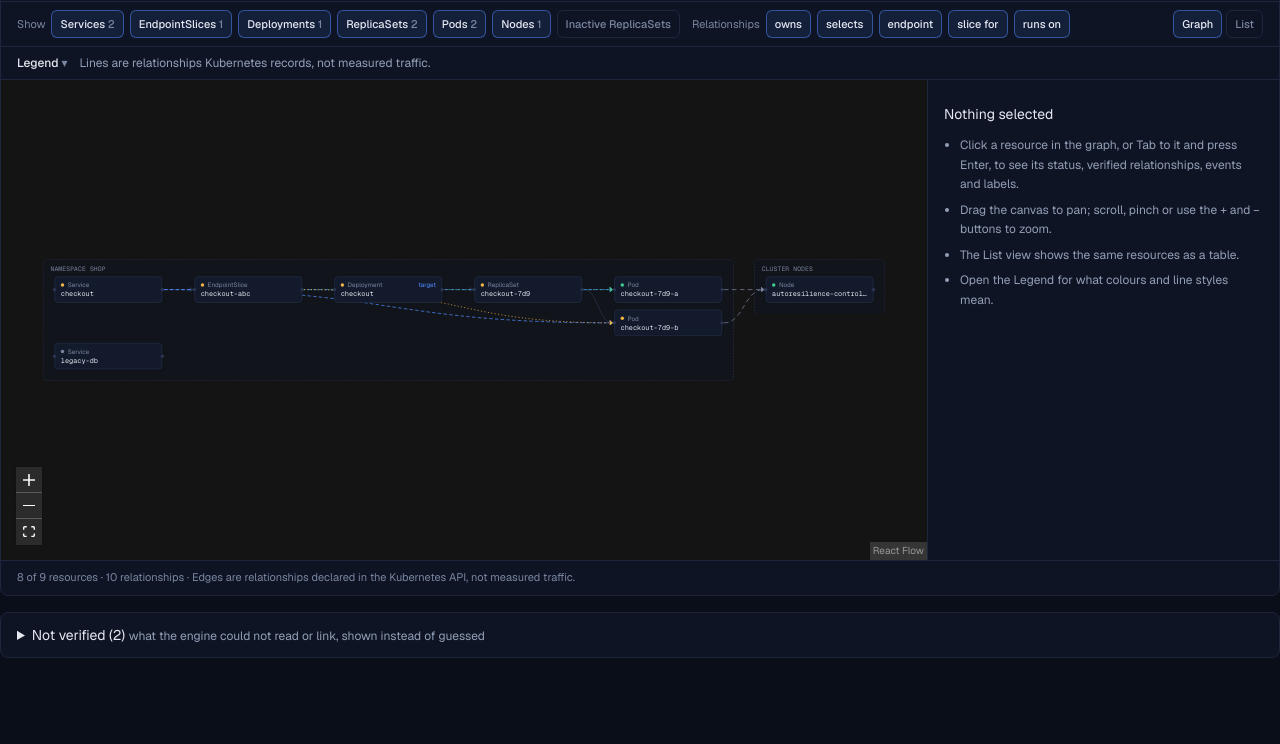
Scenario: TopologyView › offers an equivalent list view and shows unknowns instead of guessing
Step 1. Click the button "List" → x=1245, y=24, box [1226,10,1263,38]
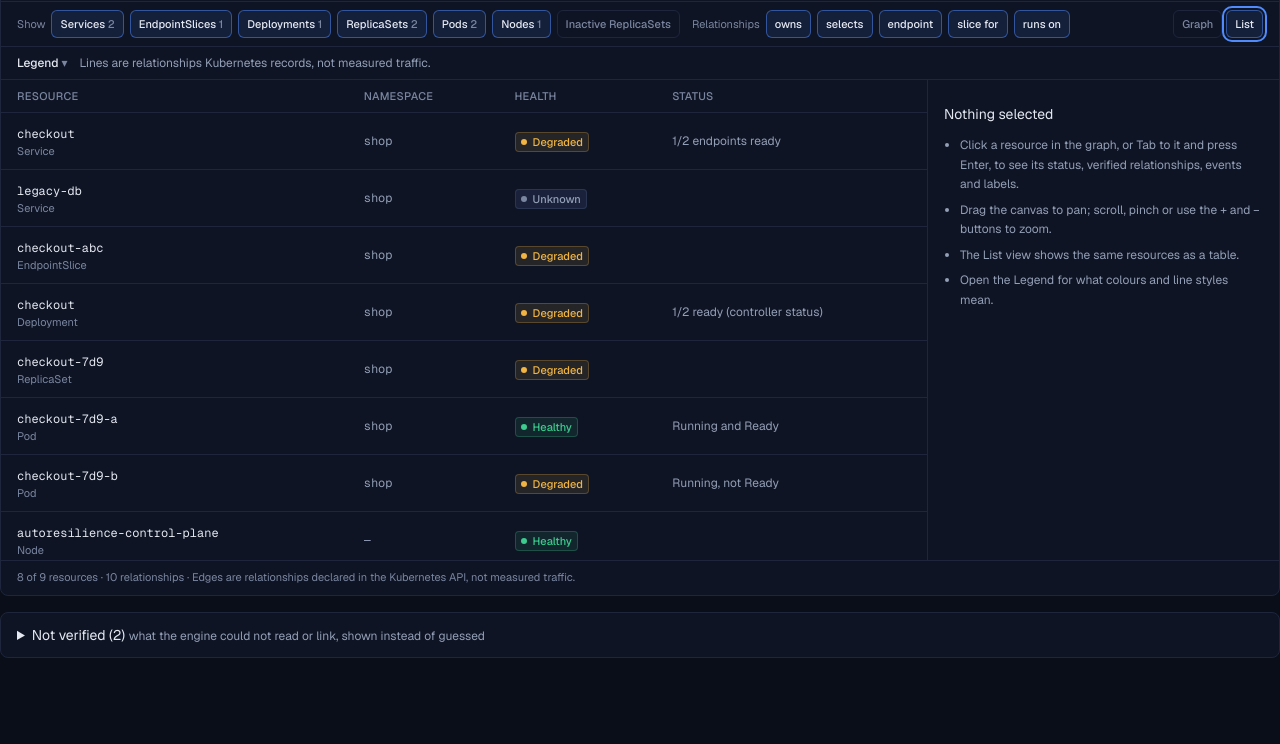
Step 2. Click the button "checkout-7d9-b" → x=67, y=476, box [17,468,118,484]
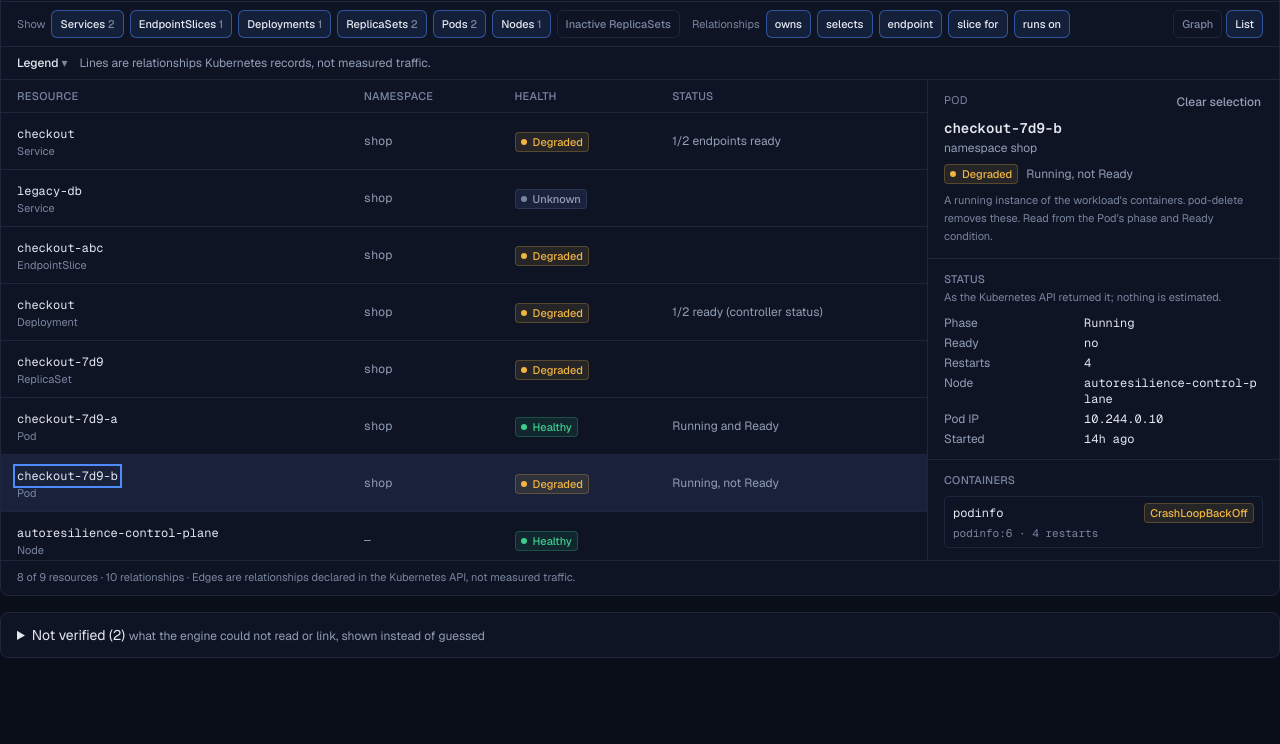
expect the text "CrashLoopBackOff" is shown: met, box [1144,502,1254,522]
Step 3. Click the heading "Not verified (2)" → x=258, y=635, box [32,626,485,644]
(page scrolled)
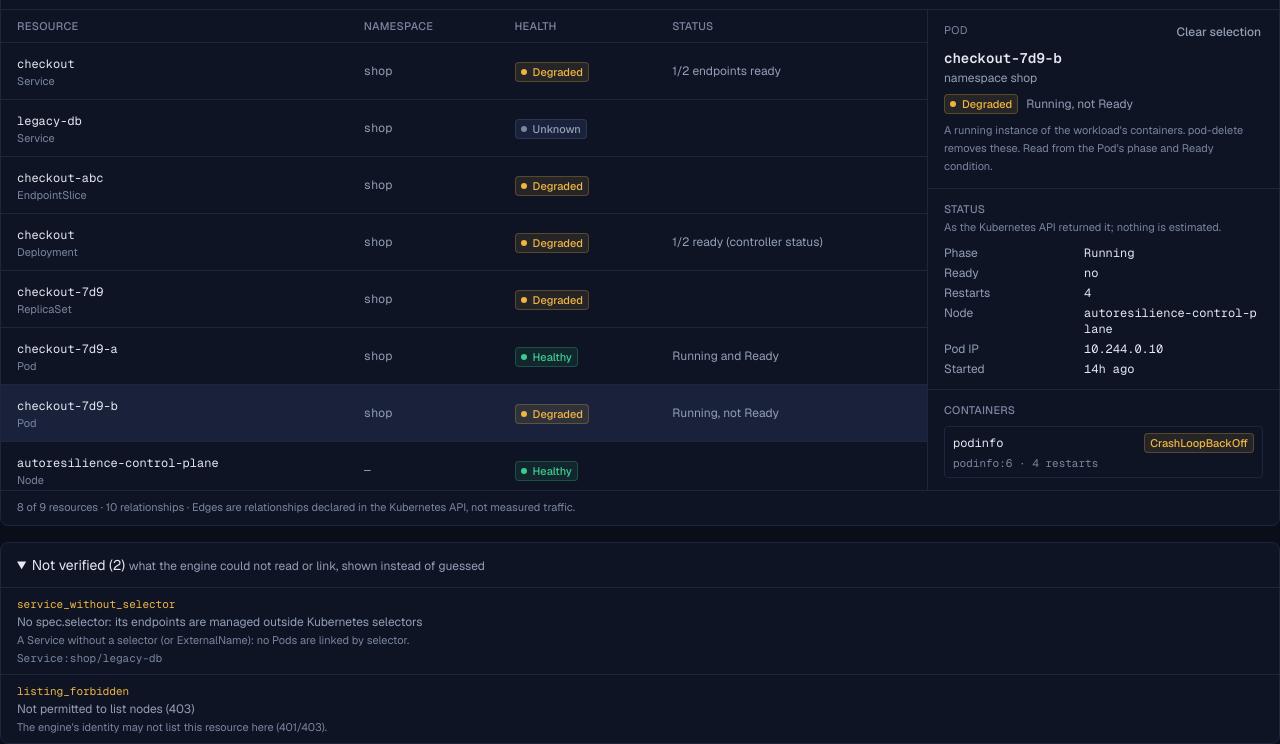
expect the text "No spec.selector" is shown: met, box [17,614,422,630]
expect the text "Not permitted to list nodes (403)" is shown: met, box [17,701,194,717]
